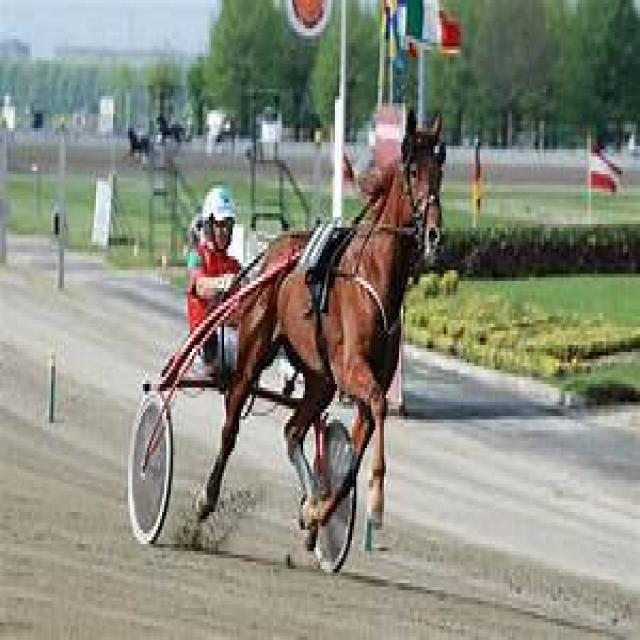horse: (160, 117, 444, 576)
